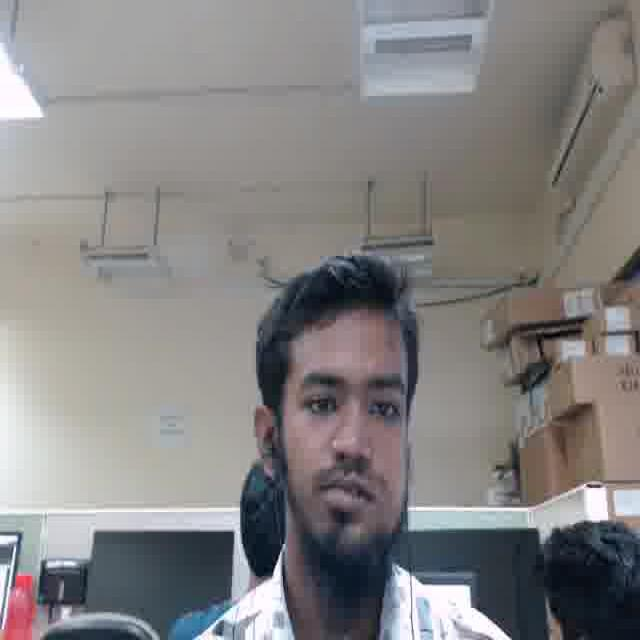Confusion: (281, 316, 412, 545)
